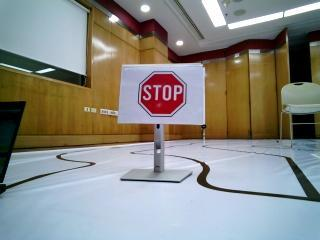stop: (122, 65, 203, 122)
